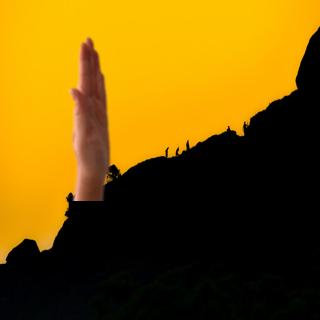Right: (66, 29, 119, 199)
